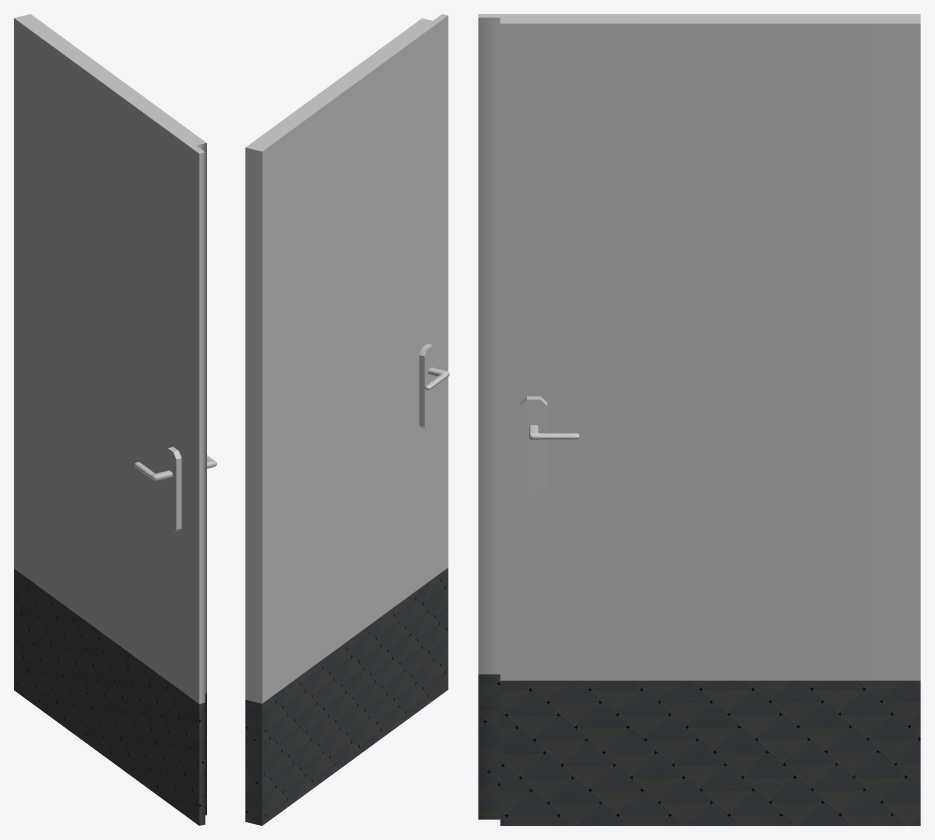
The model's file is SM_Door.fbx.
3 renders of one model, left to right at view 1: azimuth 30°, elevation 25°; view 2: azimuth 150°, elevation 25°; view 3: azimuth 270°, elevation 25°, orthographic. The views are drawn at different scales.
Parts seen in each view (by area): view 1: SM_Door_LOD0; view 2: SM_Door_LOD0; view 3: SM_Door_LOD0.
Boxes of the visible parts, x1=… form: SM_Door_LOD0: x1=14, y1=14, x2=216, y2=825; SM_Door_LOD0: x1=245, y1=14, x2=449, y2=825; SM_Door_LOD0: x1=478, y1=14, x2=920, y2=825.
Bounding box in the file's own units: 19.93 × 100 × 200.
